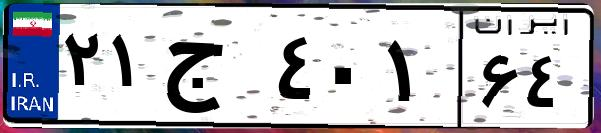0: (330, 28, 385, 110)
1: (385, 28, 445, 110), (110, 28, 158, 98)
2: (57, 26, 110, 100)
4: (270, 28, 330, 110), (525, 38, 570, 115)
6: (475, 38, 525, 113)
ج: (158, 20, 270, 120)
